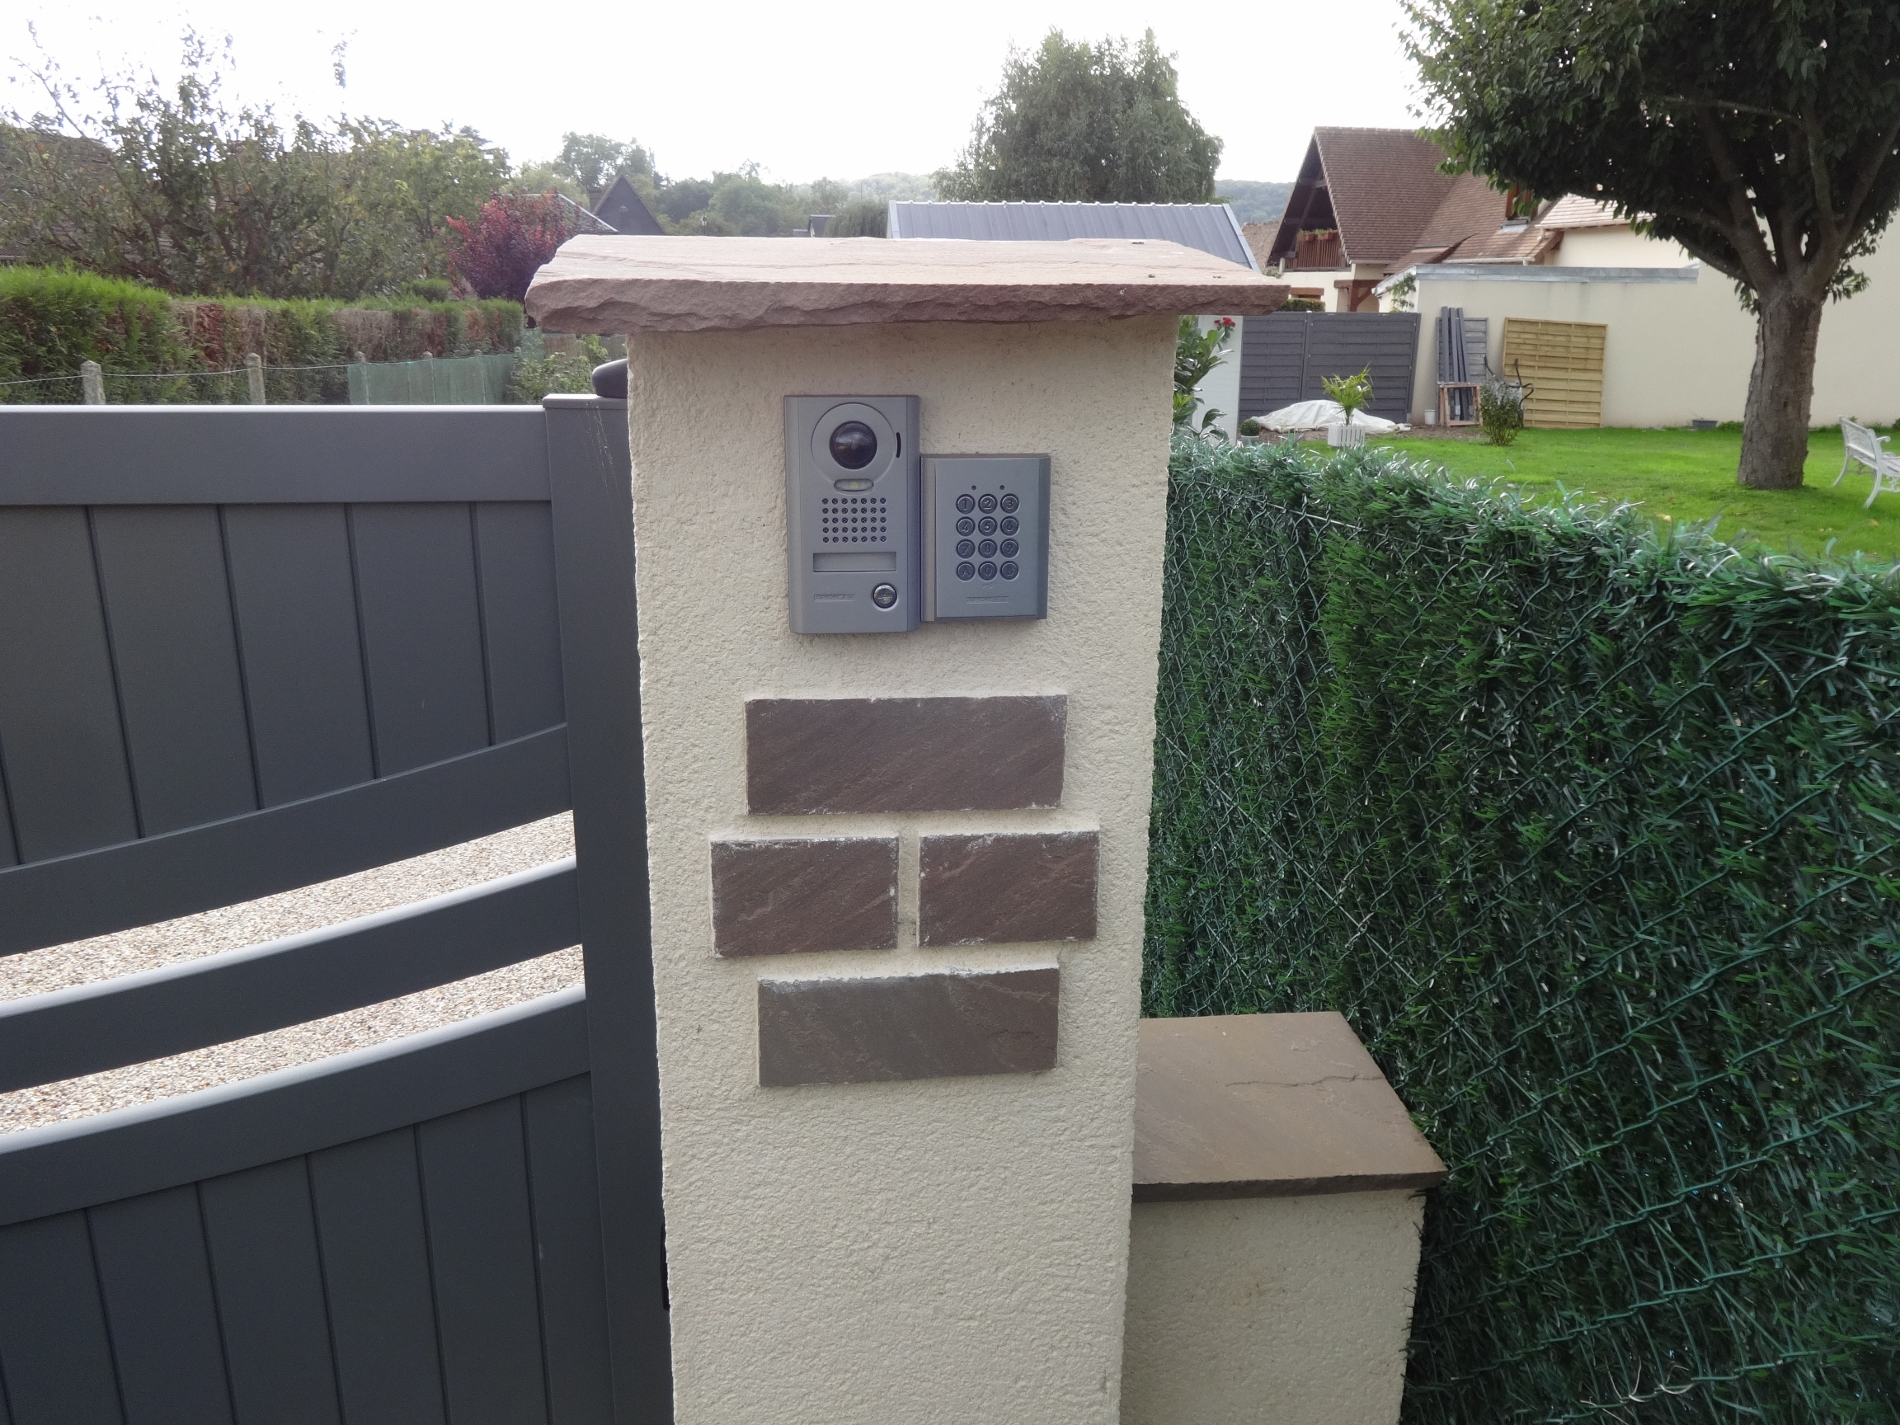digicode: (954, 492, 1022, 584)
